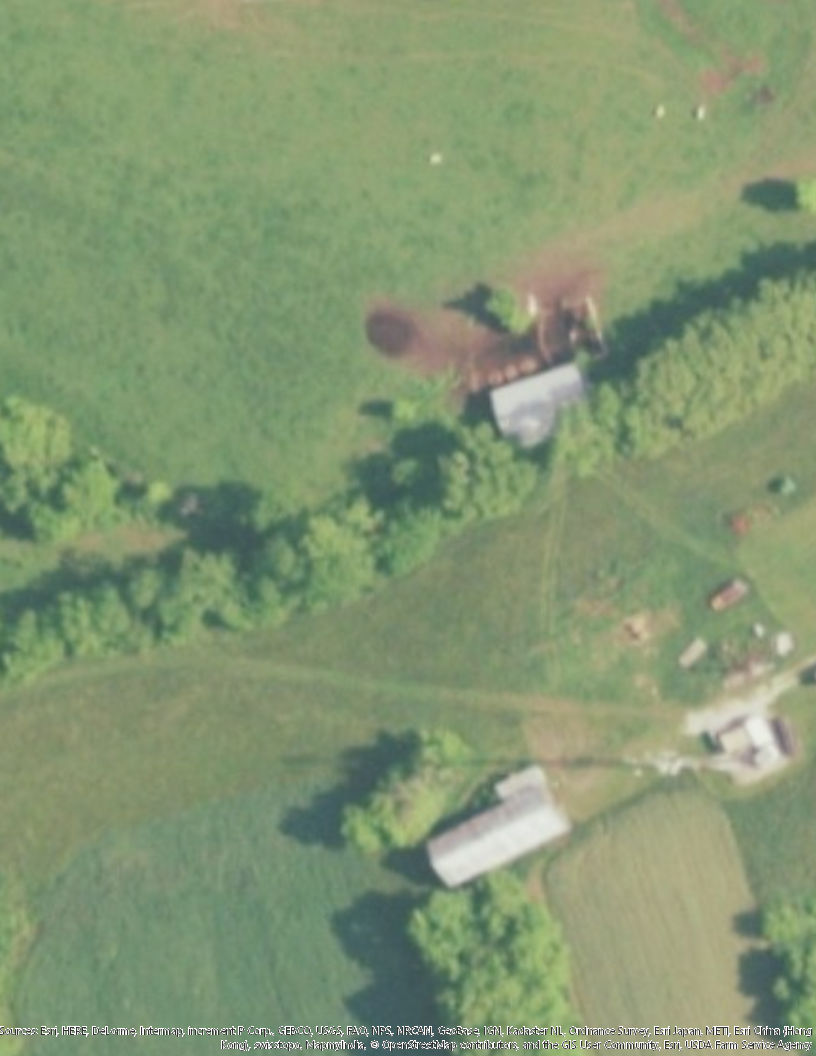cafo: (418, 763, 581, 890), (461, 357, 611, 460)
